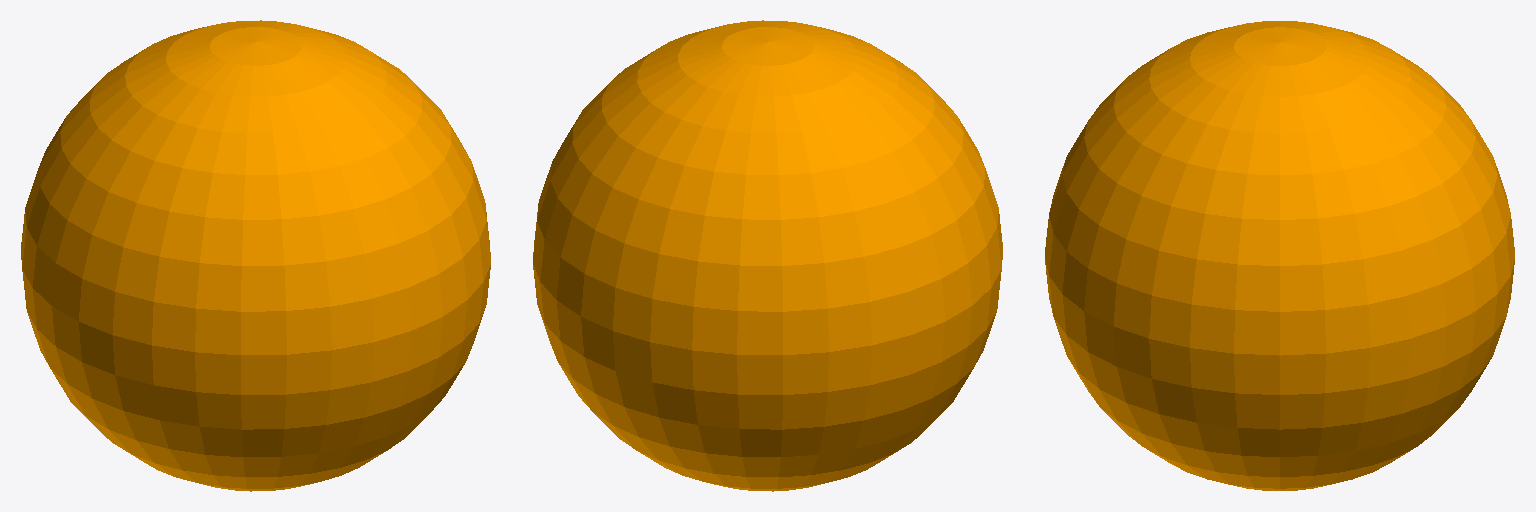
URDF robot description (ball):
<?xml version="1.0" ?>
<robot name="ball" xmlns:xacro="http://www.ros.org/wiki/xacro">
  <link name="ball">
    <inertial>
      <mass value="0.600"/>
      <origin rpy="0 0 0" xyz="0 0 0"/>
      <inertia ixx="3.6e-3" ixy="0" ixz="0" iyy="3.6e-3" iyz="0" izz="3.6e-3"/>
    </inertial>
    <visual>
      <origin rpy="0 0 0" xyz="0 0 0"/>
      <geometry>
        <sphere radius="0.123"/>
        <!-- <mesh filename="meshes/ball.obj"/> -->
      </geometry>
      <material name="Orange">
        <color rgba="1.0 0.65 0.0 1"/>
      </material>
    </visual>
    <collision>
      <origin rpy="0 0 0" xyz="0 0 0"/>
      <geometry>
        <sphere radius="0.123"/>
        <!-- <mesh filename="meshes/ball.obj"/> -->
      </geometry>
      <surface>
	<contact>
	  <kp>100000</kp>
	  <kd>1</kd>
	</contact>
      </surface>
    </collision>
  </link>
</robot>

--- Render facts (derived) ---
The picture shows the robot from 3 angles, left to right: view 1: azimuth 30°, elevation 25°; view 2: azimuth 150°, elevation 25°; view 3: azimuth 270°, elevation 25°; orthographic projection.
Robot: ball — 1 links, 0 joints (none); root link ball; default pose: all joints at 0.
Links seen in each view (by area): view 1: ball; view 2: ball; view 3: ball.
Link boxes in pixels (x1,y1,x2,y2): ball: [21, 20, 490, 491]; ball: [533, 20, 1002, 491]; ball: [1045, 21, 1514, 490].
Bounding box of the posed robot: 0.246 × 0.246 × 0.246 m (x, y, z).
Geometry: primitives only (box / cylinder / sphere), no mesh files.